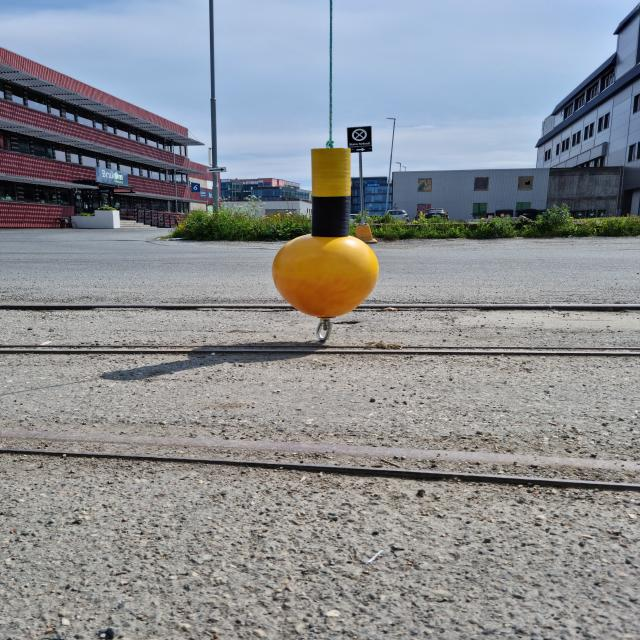west: (274, 148, 379, 316)
